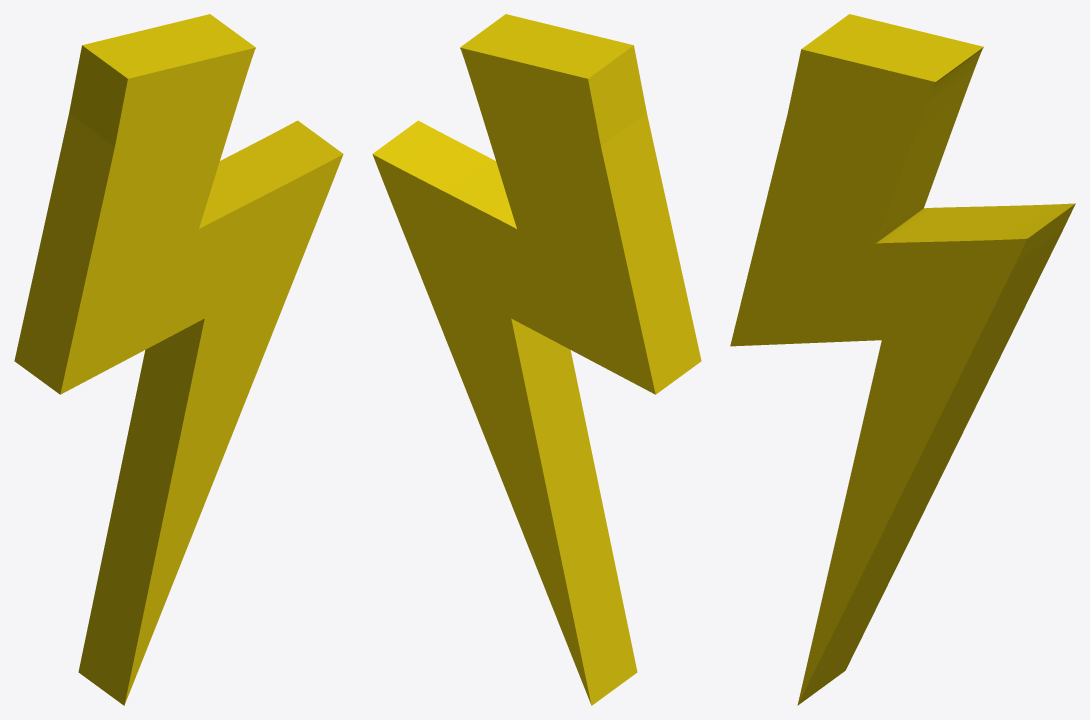
The model's file is rayo.glb.
The picture shows the model from 3 angles, left to right: view 1: azimuth 30°, elevation 25°; view 2: azimuth 150°, elevation 25°; view 3: azimuth 330°, elevation 25°; orthographic projection. The views are drawn at different scales.
Parts seen in each view (by area): view 1: Curve; view 2: Curve; view 3: Curve.
Part boxes in pixels (x1=…): Curve: x1=14, y1=14, x2=343, y2=705; Curve: x1=372, y1=14, x2=701, y2=705; Curve: x1=730, y1=14, x2=1075, y2=705.
Bounding box in the file's own units: 0.1069 × 0.2257 × 0.03.
